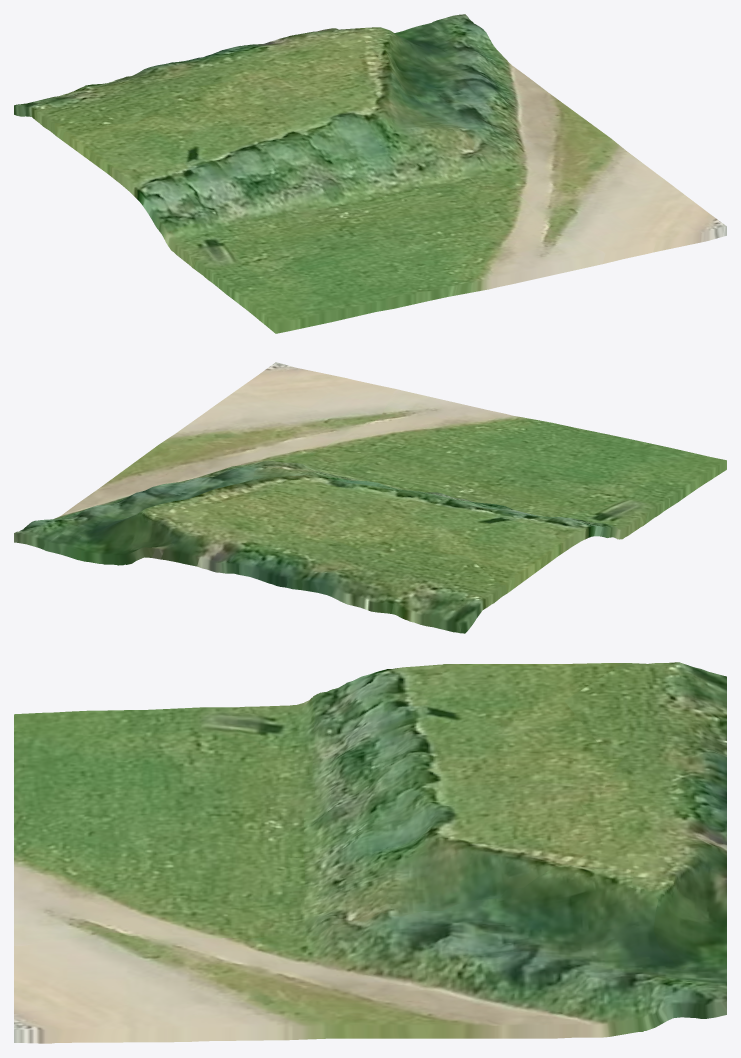
File: z20-167568-405175-h0-yup-uvflip-v3-world.glb
The picture shows the model from 3 angles, top to bottom: view 1: azimuth 30°, elevation 25°; view 2: azimuth 150°, elevation 25°; view 3: azimuth 270°, elevation 25°; orthographic projection. The views are drawn at different scales.
Bounding box in the file's own units: 30.16 × 4 × 30.32.
Materials: 1 (1 with a texture image).
